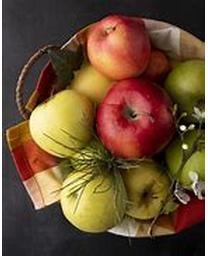apple: (94, 78, 176, 160), (61, 165, 125, 234), (30, 89, 94, 157), (87, 17, 150, 80), (121, 160, 176, 220), (168, 59, 203, 126)
